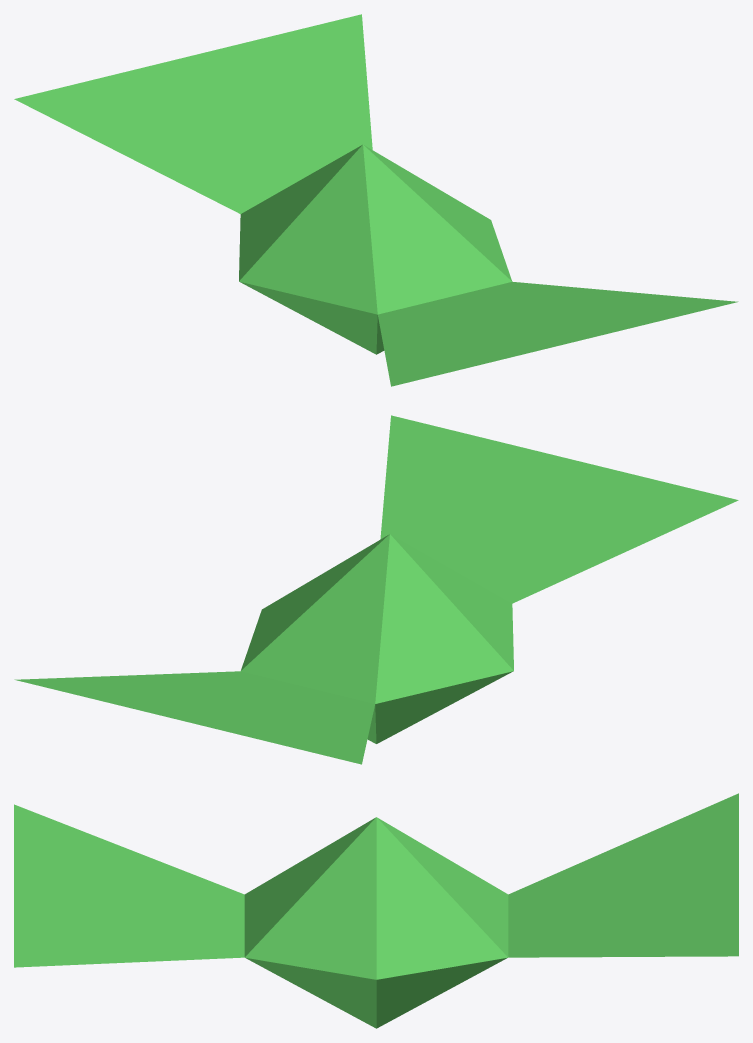
Rendered from candy01.fbx.
The picture shows the model from 3 angles, top to bottom: view 1: azimuth 30°, elevation 25°; view 2: azimuth 150°, elevation 25°; view 3: azimuth 270°, elevation 25°; orthographic projection. The views are drawn at different scales.
Visible parts, largest first — view 1: candyA; view 2: candyA; view 3: candyA.
Part boxes in pixels (x1,y1,x2,y2): candyA: [14, 14, 738, 386]; candyA: [14, 415, 738, 764]; candyA: [14, 793, 738, 1028].
Size of the model in its own units: 0.3368 by 0.1976 by 0.6322.
